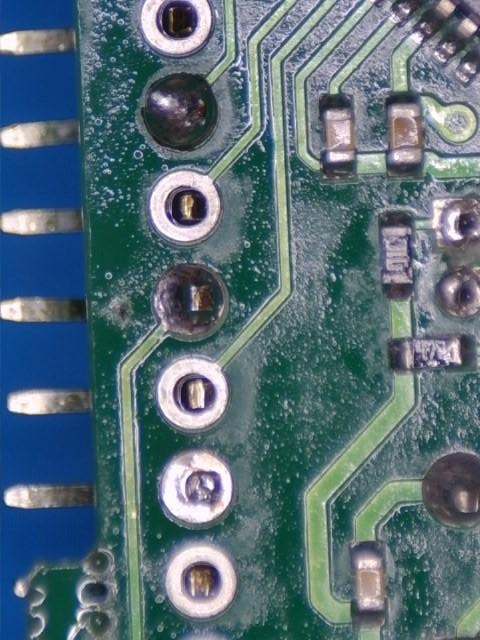pcb_defect: (141, 74, 216, 150), (161, 454, 232, 523)
